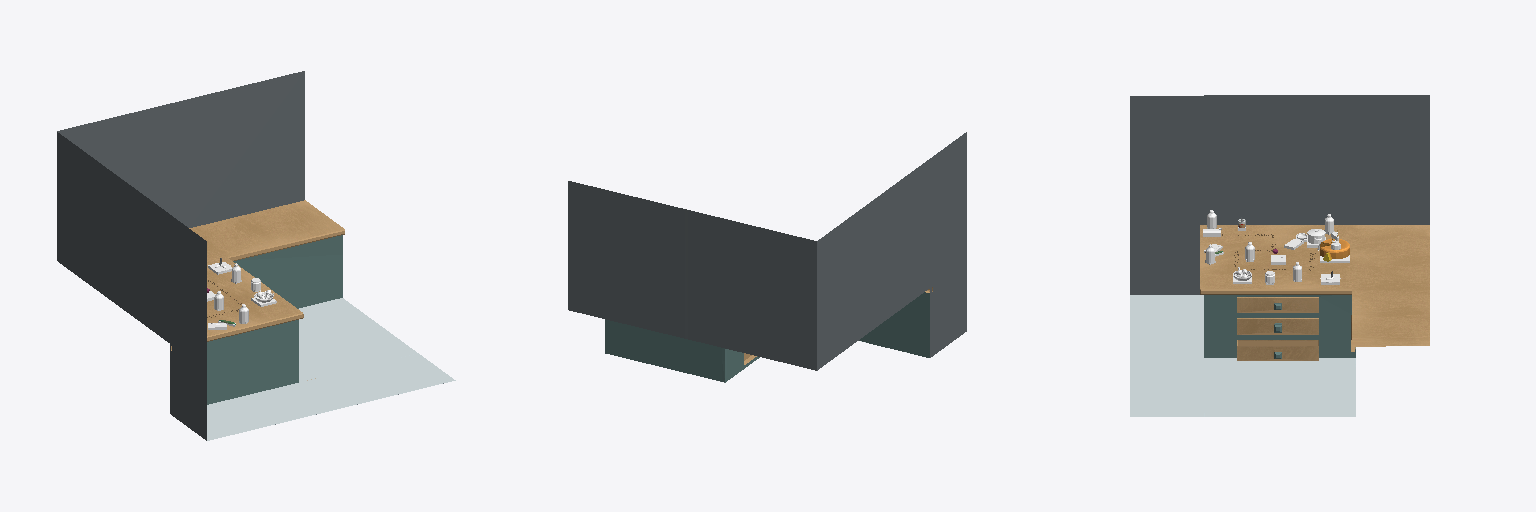
The picture shows the model from 3 angles: view 1: azimuth 30°, elevation 25°; view 2: azimuth 150°, elevation 25°; view 3: azimuth 270°, elevation 25°; orthographic projection.
Parts seen in each view (by area): view 1: BG_Kitchen_Table_Thing1; view 2: BG_Kitchen_Table_Thing1; view 3: BG_Kitchen_Table_Thing1, Collider.
Part boxes in pixels (x1,y1,x2,y2): BG_Kitchen_Table_Thing1: (57, 71, 455, 440); BG_Kitchen_Table_Thing1: (568, 132, 966, 382); BG_Kitchen_Table_Thing1: (1130, 95, 1429, 416); Collider: (1204, 227, 1349, 284).
Size of the model in its own units: 77.45 by 59.4 by 80.96.
Materials: 37 (13 with a texture image).